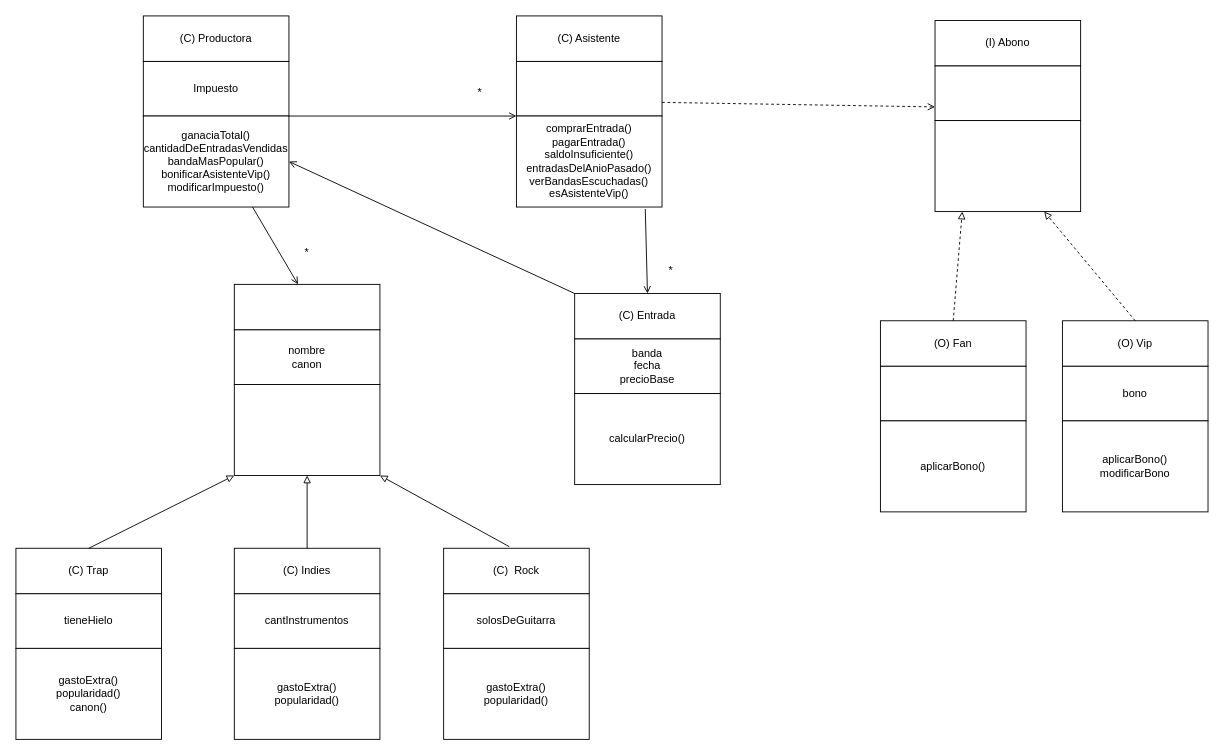
The diagram is 1224 pixels wide and 755 high, and some of its shapes have lost their labels. The shapes that lost their labels are listed below. From the top down, each one's centre as x and y in pixels, then its label:
At (x=589, y=88): "tipoDeAbono historialEntradas saldo".
At (x=1007, y=166): "aplicarAbono() esVip()".
At (x=306, y=306): "(A) Banda".
At (x=306, y=429): "presupuesto() gastosExtra() popularidad()".
